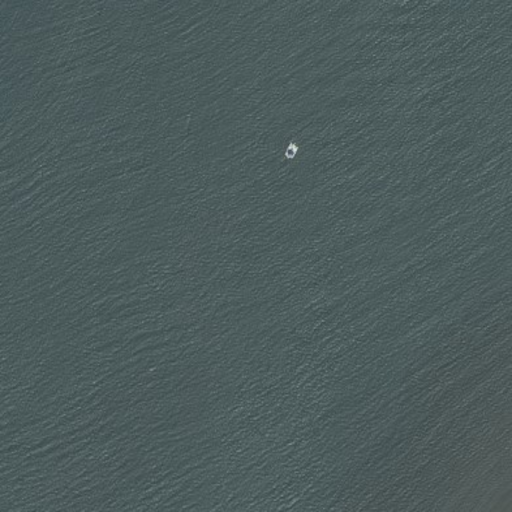ship: (282, 139, 301, 163)
